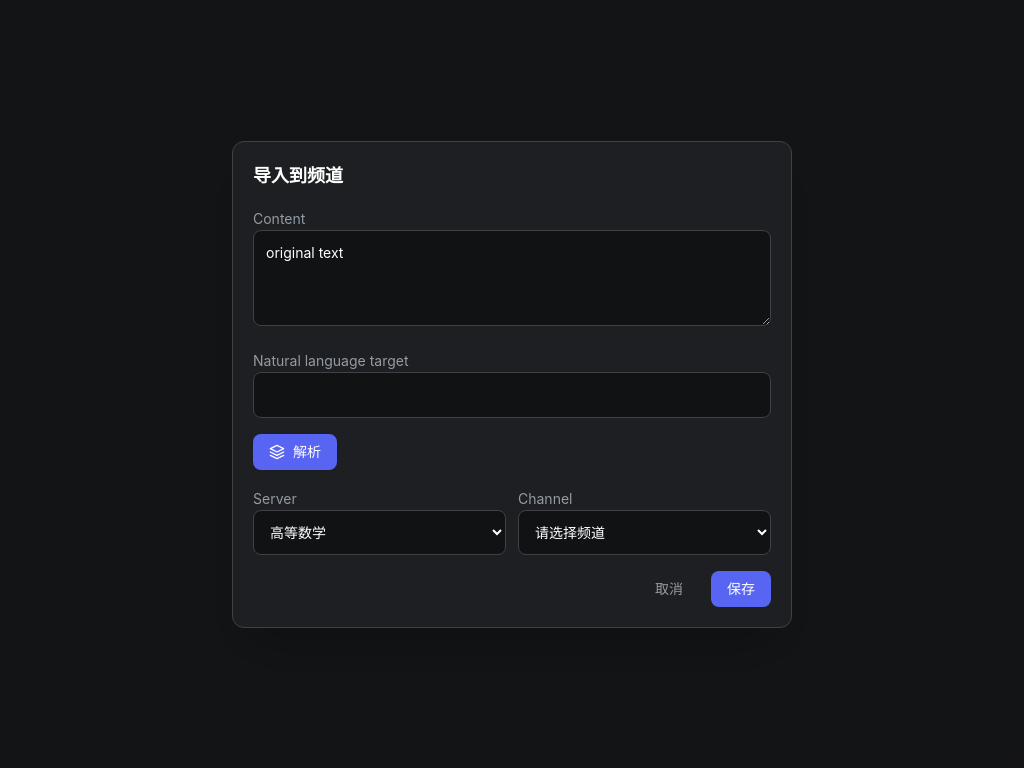
it: ConsoleImportModal › saves editable content and closes after success
The image size is (1024, 768).
Replace the text in the text box labelled "Content" with "edited text": coordinates (512, 278) [253,230,771,326]
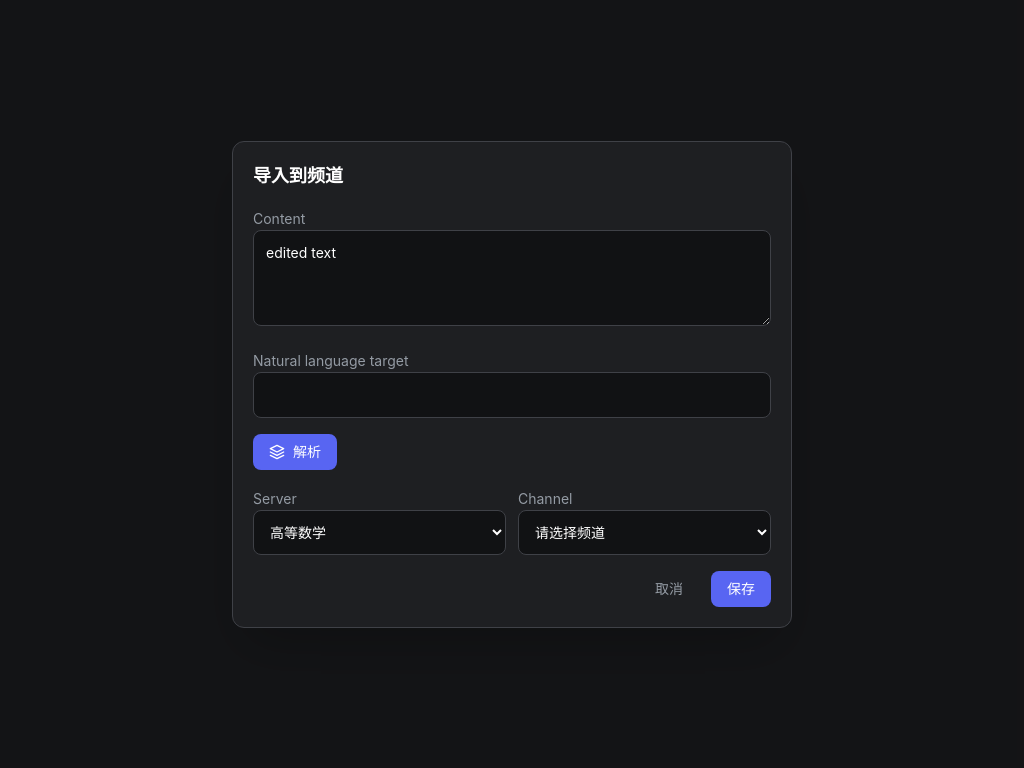
Select "高等数学" in the dropdown labelled "Server": coordinates (380, 532) [253,510,506,554]
Select "积分" in the dropdown labelled "Channel": coordinates (644, 532) [518,510,771,554]
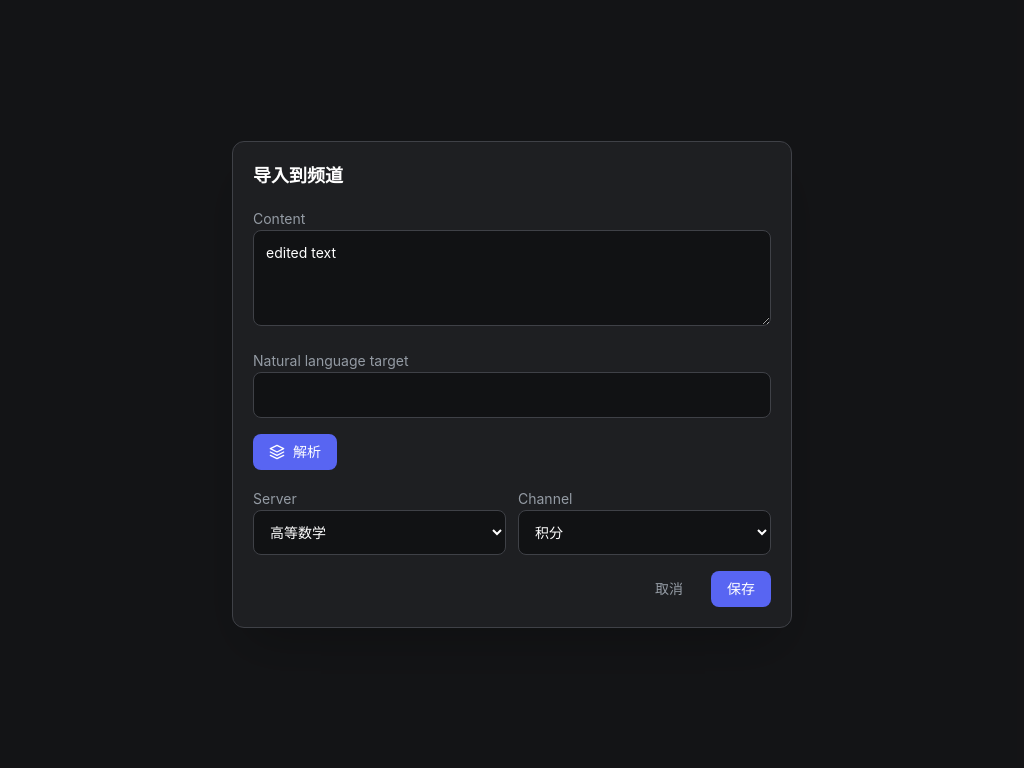
Click the button "保存": coordinates (741, 588) [711,570,771,606]
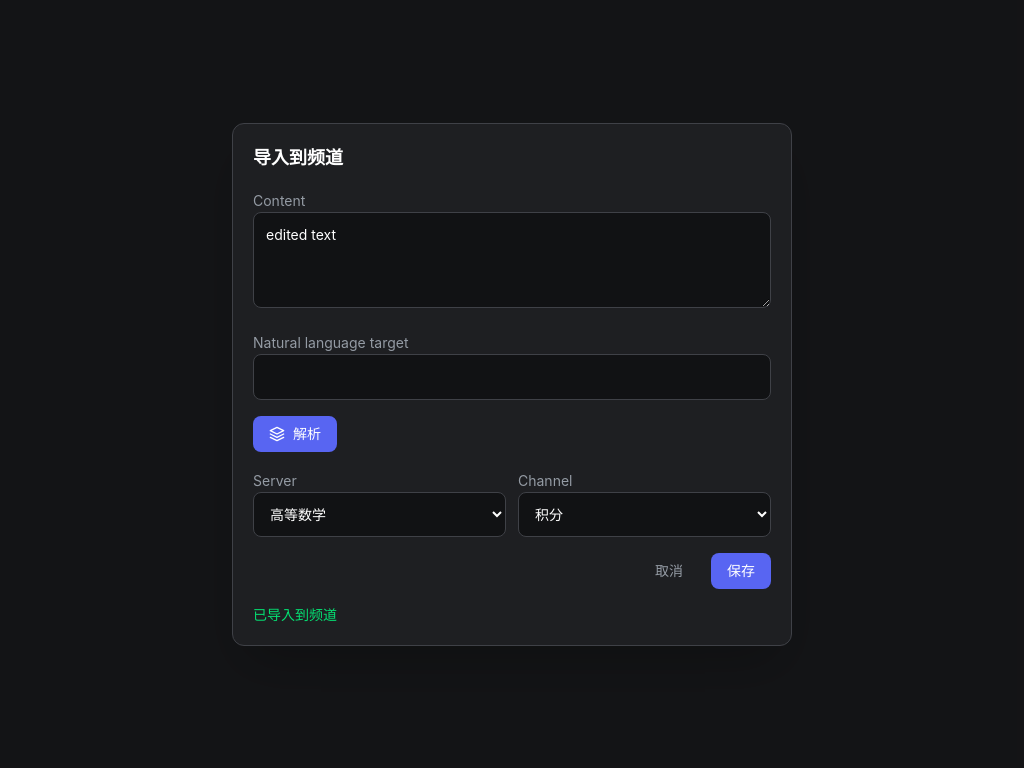
Now the text "已导入到频道" is shown, box [253,606,337,622]
